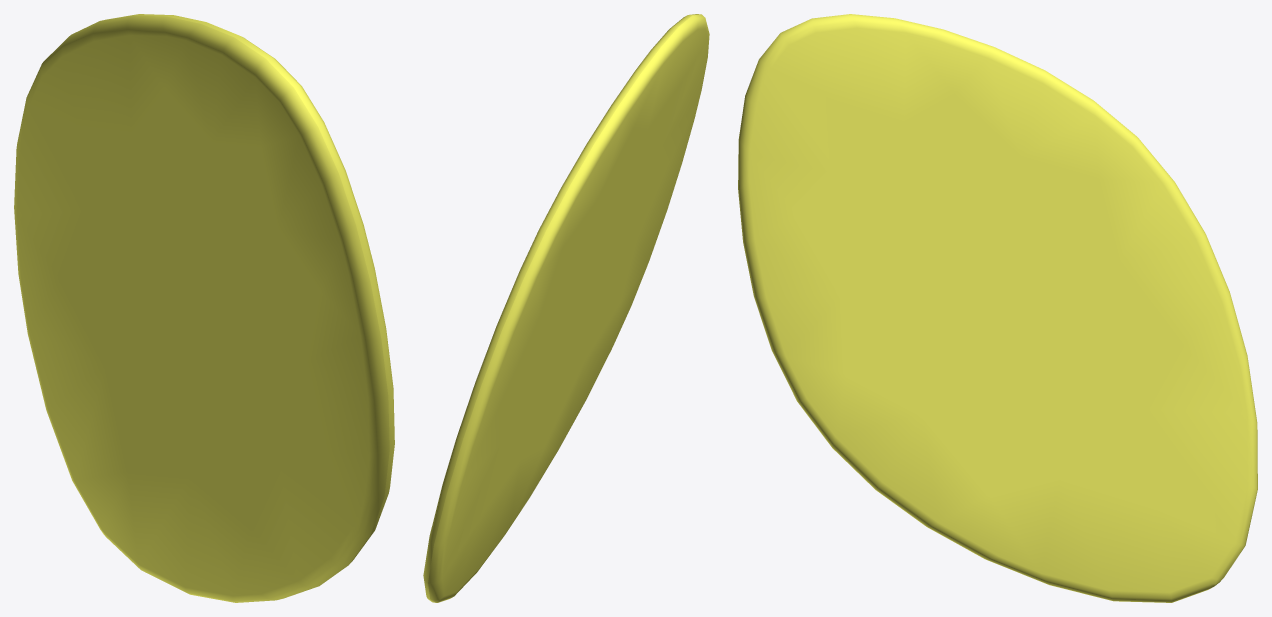
File: fallLeaf_4.glb
The picture shows the model from 3 angles, left to right: view 1: azimuth 30°, elevation 25°; view 2: azimuth 150°, elevation 25°; view 3: azimuth 270°, elevation 25°; orthographic projection. The views are drawn at different scales.
Parts seen in each view (by area): view 1: Leaf_DarkGreen_Wide.371; view 2: Leaf_DarkGreen_Wide.371; view 3: Leaf_DarkGreen_Wide.371.
Part boxes in pixels (box(x1,y1,x2,y2)): Leaf_DarkGreen_Wide.371: box(14, 14, 394, 602); Leaf_DarkGreen_Wide.371: box(423, 14, 709, 602); Leaf_DarkGreen_Wide.371: box(738, 14, 1257, 602).
Bounding box in the file's own units: 0.3549 × 1.5 × 1.31.
